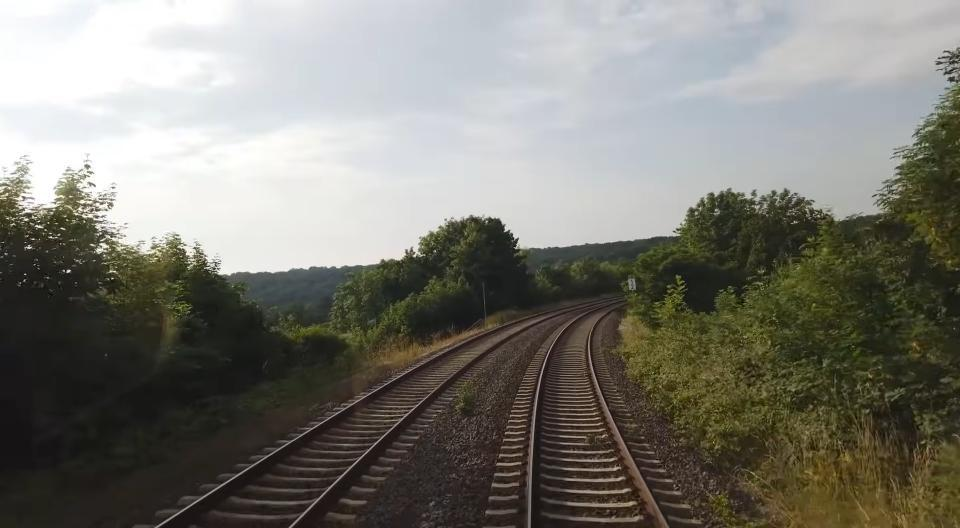Plant: (709, 492, 753, 528), (456, 392, 477, 417)
